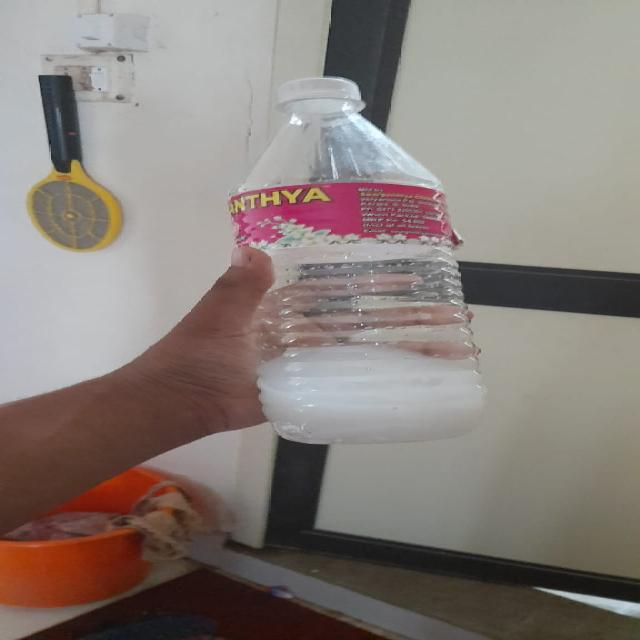Plastic - Recyclable: (224, 75, 488, 445)
